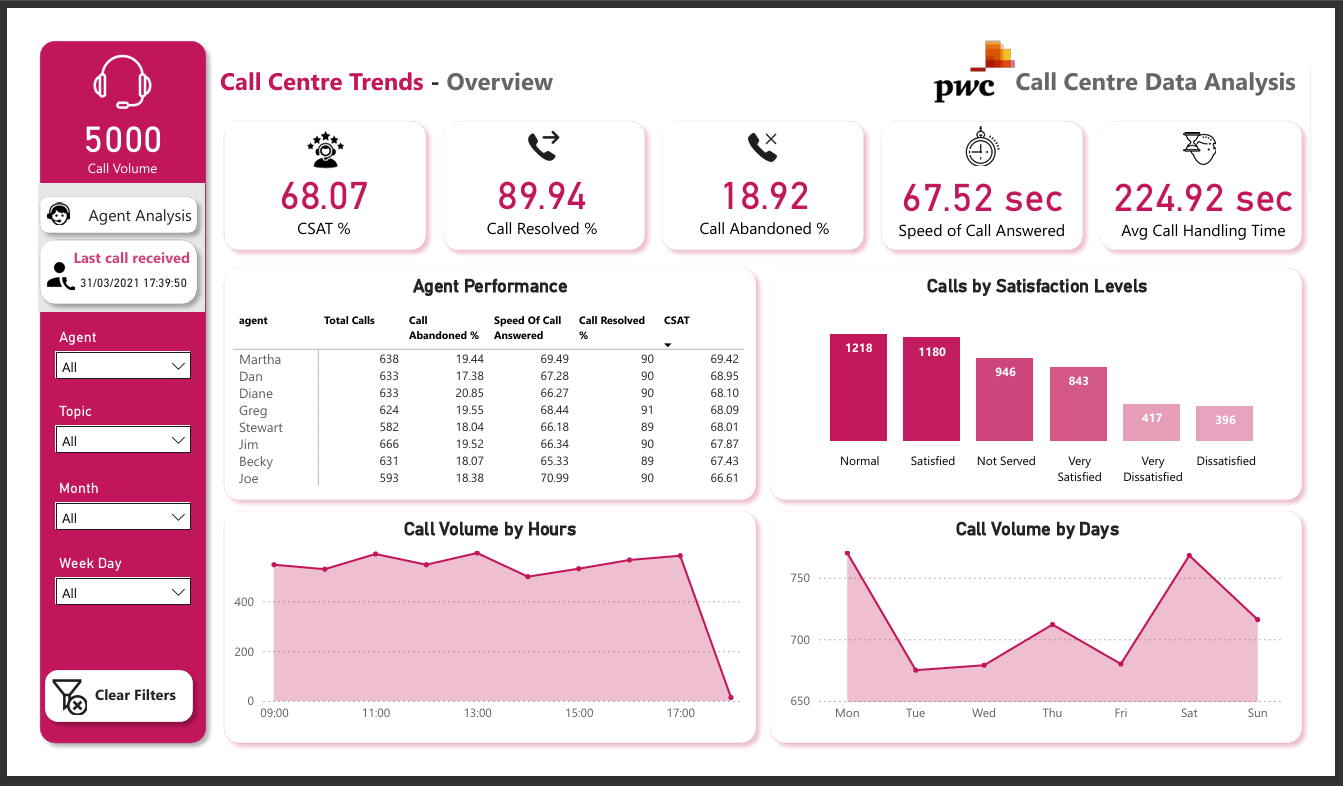

The dashboard page shown, as its layout file describes it:
{"tool":"powerbi","page":{"name":"Dashboard","canvas":[1280,720],"ordinal":0},"visuals":[{"type":"group","id":"g1","title":"BG","box":[0,0,1280,720],"z":0},{"type":"shape","box":[0,0,184,720],"z":0,"group":"g1"},{"type":"shape","box":[184,79.9,220,147.2],"z":0,"group":"g2"},{"type":"image","box":[52.1,13.8,78.6,73.7],"z":1000},{"type":"shape","box":[403,79.9,220,147.2],"z":1000,"group":"g2"},{"type":"shape","box":[184,227.1,550,250],"z":1000,"group":"g1"},{"type":"textbox","box":[184,26.9,357.3,53],"z":2000,"group":"g1"},{"type":"cardVisual","fields":{"Data":["Data_Measures.Total_calls"]},"box":[13.9,77.5,156,73.2],"z":2000},{"type":"shape","box":[622,79.9,220,147.2],"z":2000,"group":"g2"},{"type":"image","box":[897.8,0,91.6,79.9],"z":3000,"group":"g1"},{"type":"shape","box":[841,79.9,220,147.2],"z":3000,"group":"g2"},{"type":"cardVisual","fields":{"Data":["Data_Measures.Call Resolved %"]},"box":[429.5,136.7,164.5,73.4],"z":3000},{"type":"textbox","box":[967.8,26.9,302.5,53],"z":4000,"group":"g1"},{"type":"shape","box":[1060,79.9,220,147.2],"z":4000,"group":"g2"},{"type":"cardVisual","fields":{"Data":["Data_Measures.Call Abandoned %"]},"box":[648,136.7,171.3,73.4],"z":4000},{"type":"group","id":"g2","title":"Group 1","box":[184,79.9,1096,147.2],"z":5000,"group":"g1"},{"type":"cardVisual","fields":{"Data":["Data_Measures.Speed Of CallAnswered (Display)"]},"box":[847.9,138.7,206.8,73.5],"z":5000},{"type":"cardVisual","fields":{"Data":["Data_Measures.Avg Call Handling Time (Display)"]},"box":[1064.6,136,215.8,79.8],"z":6000},{"type":"shape","box":[729.7,227.1,550.3,249.6],"z":6000,"group":"g1"},{"type":"cardVisual","fields":{"Data":["Data_Measures.CSAT"]},"box":[210.9,136.7,164.5,73.4],"z":7000},{"type":"shape","box":[184,470,550,250],"z":7000,"group":"g1"},{"type":"pivotTable","title":"Agent Performance","fields":{"Rows":["Call Center Data.agent"],"Values":["Data_Measures.Total_calls","Data_Measures.Call Abandoned %","Data_Measures.Speed Of CallAnswered","Data_Measures.Call Resolved %","Data_Measures.CSAT"]},"box":[197.7,243,522.3,216.7],"z":8000},{"type":"shape","box":[729.7,470.4,550.3,249.6],"z":8000,"group":"g1"},{"type":"areaChart","title":"Call Volume by Hours","fields":{"Category":["Call Center Data.Hour"],"Y":["Data_Measures.Total_calls"]},"box":[197.7,486,522.3,213.1],"z":9000},{"type":"areaChart","title":"Call Volume by Days","fields":{"Y":["Data_Measures.Total_calls"],"Category":["Call Center Data.Day Name"]},"box":[754.5,486,504.2,213.1],"z":9000,"group":"g1"},{"type":"shape","box":[7.9,152.3,167,128.7],"z":10000,"group":"g1"},{"type":"columnChart","title":"Calls by Satisfaction Levels","fields":{"Y":["Data_Measures.Total_calls"],"Category":["Call Center Data.Satisfaction Word"]},"box":[754.5,243,504.2,216.7],"z":10000},{"type":"shape","box":[0,199.3,175.1,81.7],"z":11000,"group":"g1"},{"type":"slicer","fields":{"Values":["Call Center Data.agent"]},"box":[14.5,292,156,67.1],"z":11000},{"type":"shape","box":[0,156.2,175.1,53.9],"z":12000,"group":"g1"},{"type":"cardVisual","fields":{"Data":["Data_Measures.Last Call Received"]},"box":[31.7,226.7,152.3,39],"z":12000},{"type":"slicer","fields":{"Values":["Call Center Data.topic"]},"box":[14.5,366.3,156,67.1],"z":13000},{"type":"shape","box":[5.3,628.9,165.9,69.8],"z":13000,"group":"g1"},{"type":"slicer","fields":{"Values":["Call Center Data.Month"]},"box":[14.5,442.5,156,67.1],"z":14000},{"type":"image","box":[7.4,637.4,57.1,51.8],"z":14000,"group":"g1"},{"type":"slicer","fields":{"Values":["Call Center Data.Day Name"]},"box":[14.5,517.8,156,67.1],"z":15000},{"type":"textbox","box":[58.8,646.5,105.6,34.8],"z":15000,"group":"g1"},{"type":"textbox","box":[9.9,210.1,154.4,32.3],"z":16000,"group":"g1"},{"type":"image","box":[5.4,220.8,45.8,43.1],"z":17000,"group":"g1"},{"type":"textbox","box":[9.8,167,156.2,32.4],"z":18000,"group":"g1"},{"type":"image","title":"Agent","box":[8.8,166,39.3,33.4],"z":19000,"group":"g1"},{"type":"image","box":[262.5,90.5,62.5,53.4],"z":20000,"group":"g1"},{"type":"image","box":[482.5,89.6,58.8,48.9],"z":21000,"group":"g1"},{"type":"image","box":[708.3,94.1,46.2,43.2],"z":22000,"group":"g1"},{"type":"image","box":[925.6,90.3,50.6,49.8],"z":23000,"group":"g1"},{"type":"image","box":[1148.4,94.5,43,45.6],"z":24000,"group":"g1"}]}

Visuals, with their boxes on the page's 1280x720 design canvas (x1, y1, x2, y2). These are canvas units, not pixel positions in the 1343x786 screenshot, which may show the page scaled, cropped or inside an application window:
"BG" group: x1=0 y1=0 x2=1280 y2=720
shape: x1=0 y1=0 x2=184 y2=720
shape: x1=184 y1=80 x2=404 y2=227
image: x1=52 y1=14 x2=131 y2=88
shape: x1=403 y1=80 x2=623 y2=227
shape: x1=184 y1=227 x2=734 y2=477
textbox: x1=184 y1=27 x2=541 y2=80
cardVisual - Data_Measures.Total_calls: x1=14 y1=78 x2=170 y2=151
shape: x1=622 y1=80 x2=842 y2=227
image: x1=898 y1=0 x2=989 y2=80
shape: x1=841 y1=80 x2=1061 y2=227
cardVisual - Data_Measures.Call Resolved %: x1=430 y1=137 x2=594 y2=210
textbox: x1=968 y1=27 x2=1270 y2=80
shape: x1=1060 y1=80 x2=1280 y2=227
cardVisual - Data_Measures.Call Abandoned %: x1=648 y1=137 x2=819 y2=210
"Group 1" group: x1=184 y1=80 x2=1280 y2=227
cardVisual - Data_Measures.Speed Of CallAnswered (Display): x1=848 y1=139 x2=1055 y2=212
cardVisual - Data_Measures.Avg Call Handling Time (Display): x1=1065 y1=136 x2=1280 y2=216
shape: x1=730 y1=227 x2=1280 y2=477
cardVisual - Data_Measures.CSAT: x1=211 y1=137 x2=375 y2=210
shape: x1=184 y1=470 x2=734 y2=720
"Agent Performance" pivotTable: x1=198 y1=243 x2=720 y2=460
shape: x1=730 y1=470 x2=1280 y2=720
"Call Volume by Hours" areaChart: x1=198 y1=486 x2=720 y2=699
"Call Volume by Days" areaChart: x1=754 y1=486 x2=1259 y2=699
shape: x1=8 y1=152 x2=175 y2=281
"Calls by Satisfaction Levels" columnChart: x1=754 y1=243 x2=1259 y2=460
shape: x1=0 y1=199 x2=175 y2=281
slicer - Call Center Data.agent: x1=14 y1=292 x2=170 y2=359
shape: x1=0 y1=156 x2=175 y2=210
cardVisual - Data_Measures.Last Call Received: x1=32 y1=227 x2=184 y2=266
slicer - Call Center Data.topic: x1=14 y1=366 x2=170 y2=433
shape: x1=5 y1=629 x2=171 y2=699
slicer - Call Center Data.Month: x1=14 y1=442 x2=170 y2=510
image: x1=7 y1=637 x2=64 y2=689
slicer - Call Center Data.Day Name: x1=14 y1=518 x2=170 y2=585
textbox: x1=59 y1=646 x2=164 y2=681
textbox: x1=10 y1=210 x2=164 y2=242
image: x1=5 y1=221 x2=51 y2=264
textbox: x1=10 y1=167 x2=166 y2=199
"Agent" image: x1=9 y1=166 x2=48 y2=199
image: x1=262 y1=90 x2=325 y2=144
image: x1=482 y1=90 x2=541 y2=138
image: x1=708 y1=94 x2=754 y2=137
image: x1=926 y1=90 x2=976 y2=140
image: x1=1148 y1=94 x2=1191 y2=140
